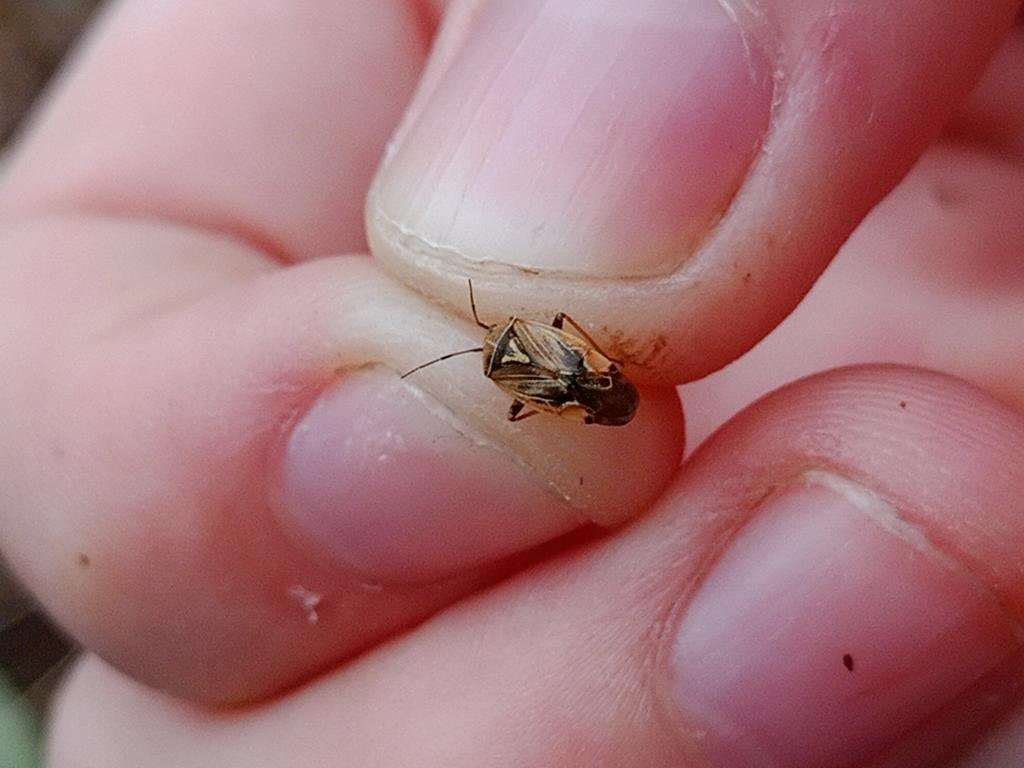plant_bugs: (386, 251, 661, 467)
